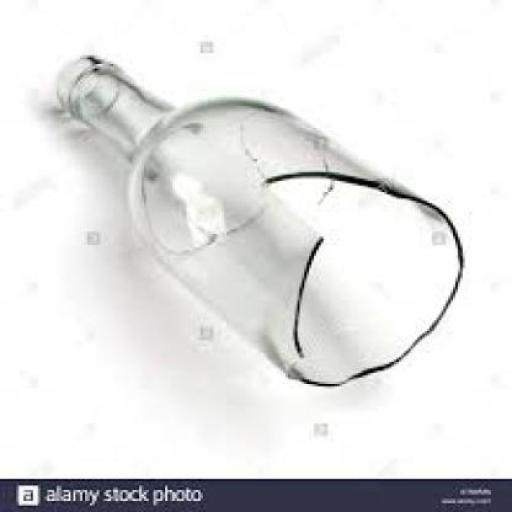glass: (52, 53, 460, 386)
